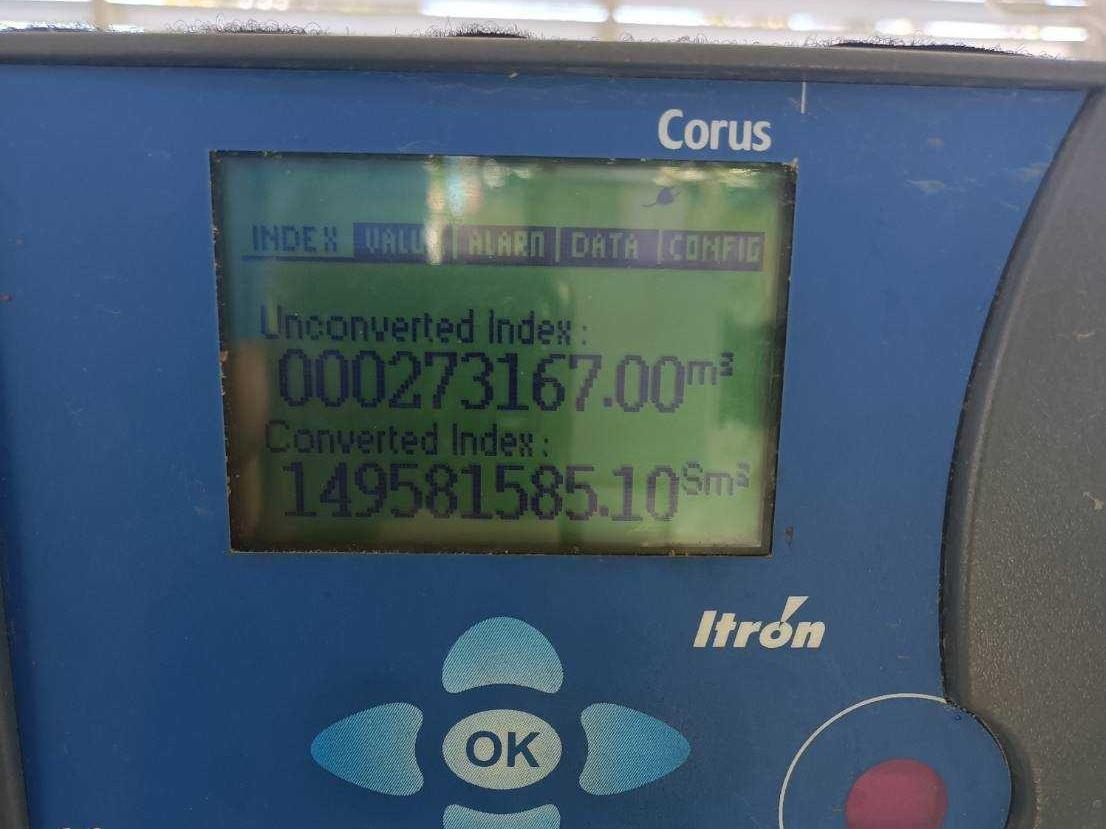digital_screen: (208, 152, 797, 555)
